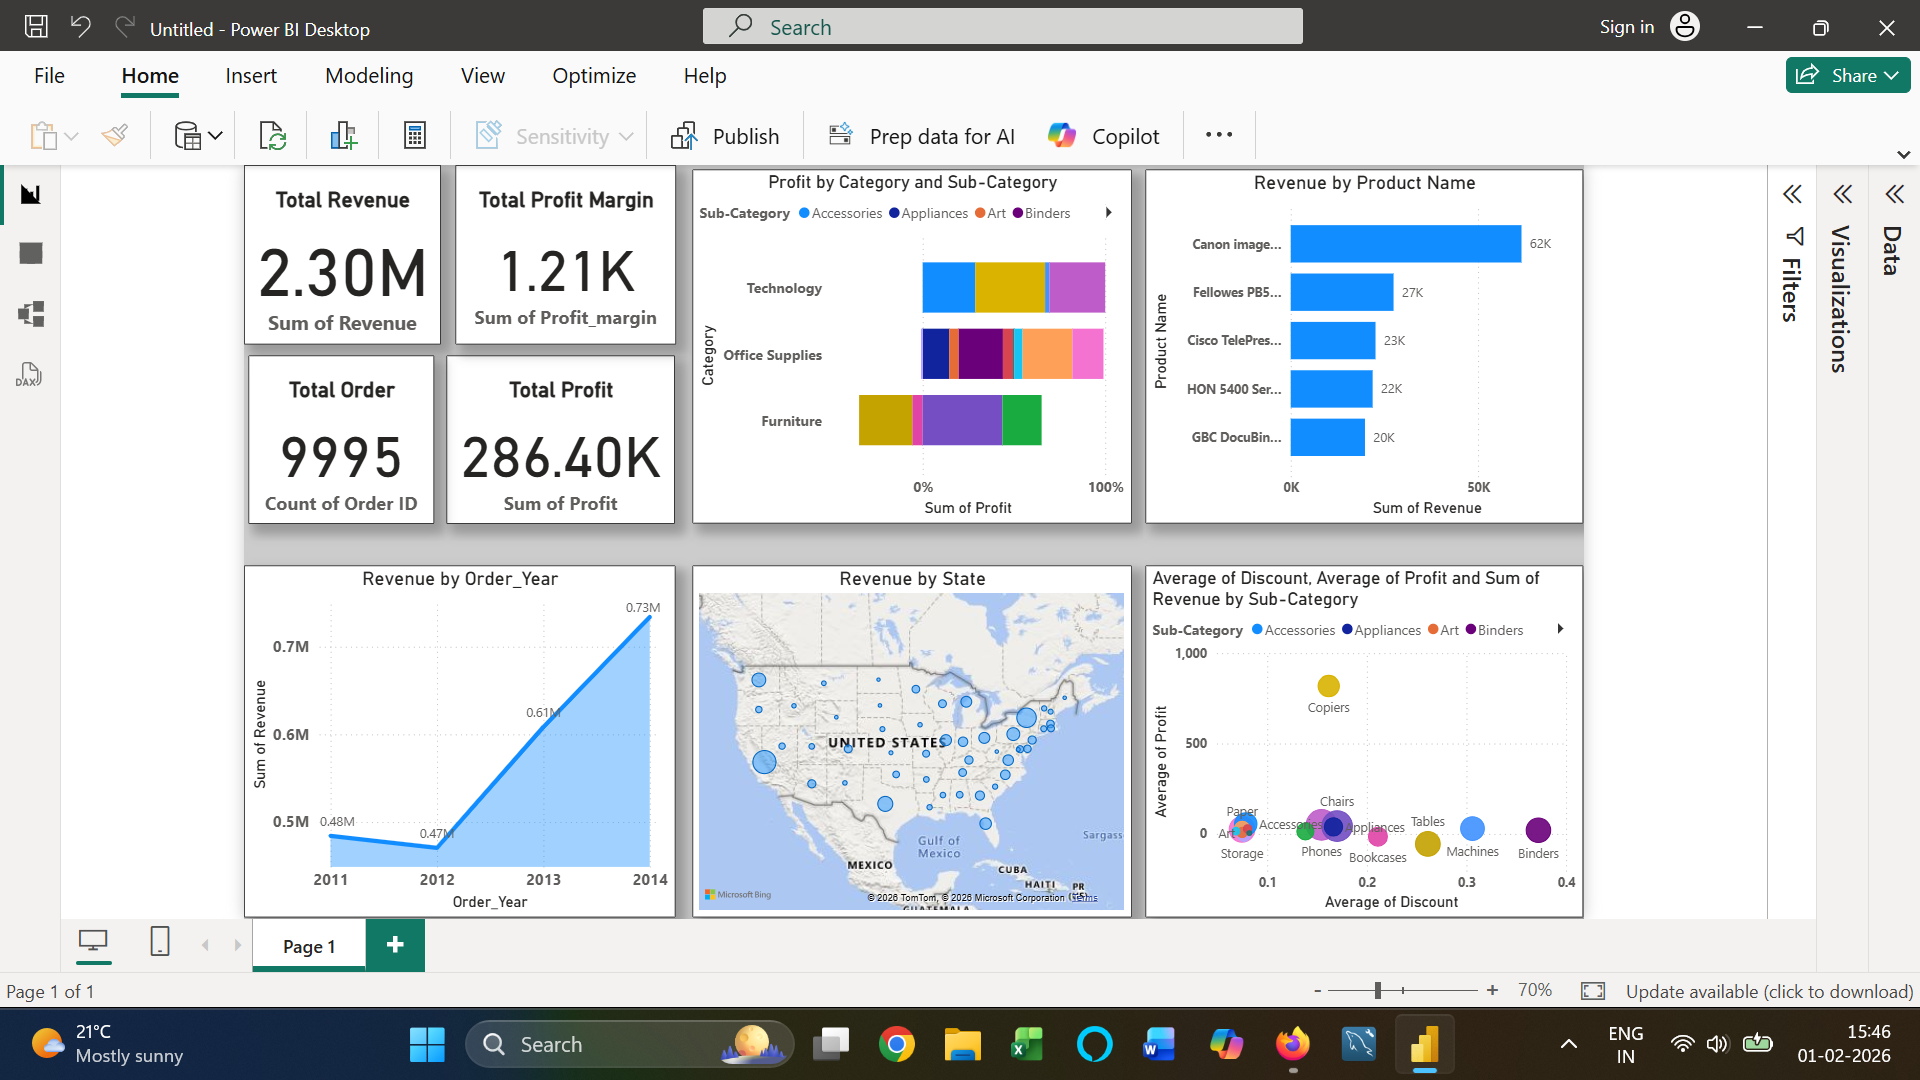

What the dashboard file says about the page in this screenshot:
{"tool":"powerbi","page":{"name":"Page 1","canvas":[1280,720],"ordinal":0},"visuals":[{"type":"card","title":"Total Revenue","fields":{"Values":["Sum(Superstore.Revenue)"]},"box":[0,0,187.8,171.1],"z":0},{"type":"card","title":"Total Profit","fields":{"Values":["Sum(Superstore.Profit)"]},"box":[193.8,181.7,218,160.5],"z":1},{"type":"card","title":"Total Profit Margin","fields":{"Values":["Sum(Superstore.Profit_margin)"]},"box":[201.4,0,210.5,171.1],"z":2},{"type":"card","title":"Total Order","fields":{"Values":["CountNonNull(Superstore.Order ID)"]},"box":[4.5,181.7,177.2,160.5],"z":3},{"type":"lineChart","title":" Revenue by Order_Year","fields":{"Y":["Sum(Superstore.Revenue)"],"Category":["Superstore.Order_Year"]},"box":[0,383.1,411.9,336.2],"z":4},{"type":"map","title":"Revenue by State","fields":{"Category":["Superstore.State"],"Size":["Sum(Superstore.Revenue)"]},"box":[428.5,383.1,419.4,336.2],"z":5},{"type":"hundredPercentStackedBarChart","title":"Profit by Category and Sub-Category","fields":{"Category":["Superstore.Category"],"Y":["Sum(Superstore.Profit)"],"Series":["Superstore.Sub-Category"]},"box":[428.5,4.5,419.4,337.7],"z":6},{"type":"clusteredBarChart","title":" Revenue by Product Name","fields":{"Category":["Superstore.Product Name"],"Y":["Sum(Superstore.Revenue)"]},"box":[861.6,4.5,417.9,337.7],"z":7},{"type":"scatterChart","fields":{"X":["Avg(Superstore.Discount)"],"Y":["Avg(Superstore.Profit)"],"Series":["Superstore.Sub-Category"],"Size":["Sum(Superstore.Revenue)"]},"box":[861.6,383.1,417.9,336.2],"z":8}]}

Visuals, with their boxes on the page's 1280x720 design canvas (x1, y1, x2, y2). These are canvas units, not pixel positions in the 1920x1080 screenshot, which may show the page scaled, cropped or inside an application window:
"Total Revenue" card: <region>0, 0, 188, 171</region>
"Total Profit" card: <region>194, 182, 412, 342</region>
"Total Profit Margin" card: <region>201, 0, 412, 171</region>
"Total Order" card: <region>4, 182, 182, 342</region>
" Revenue by Order_Year" lineChart: <region>0, 383, 412, 719</region>
"Revenue by State" map: <region>428, 383, 848, 719</region>
"Profit by Category and Sub-Category" hundredPercentStackedBarChart: <region>428, 4, 848, 342</region>
" Revenue by Product Name" clusteredBarChart: <region>862, 4, 1280, 342</region>
scatterChart - Avg(Superstore.Discount) x Avg(Superstore.Profit): <region>862, 383, 1280, 719</region>
